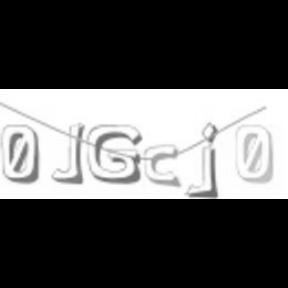0: (0, 121, 46, 187), (232, 122, 276, 188)
G: (86, 123, 142, 185)
J: (52, 120, 84, 184)
c: (142, 142, 182, 188)
j: (184, 120, 222, 200)
